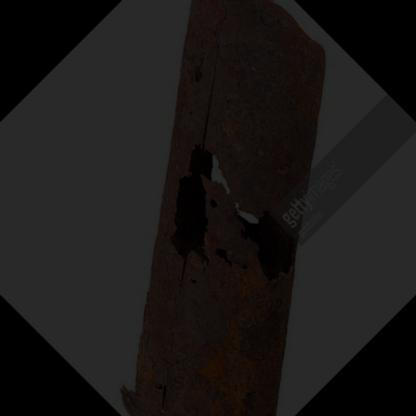burst: (171, 138, 273, 307)
